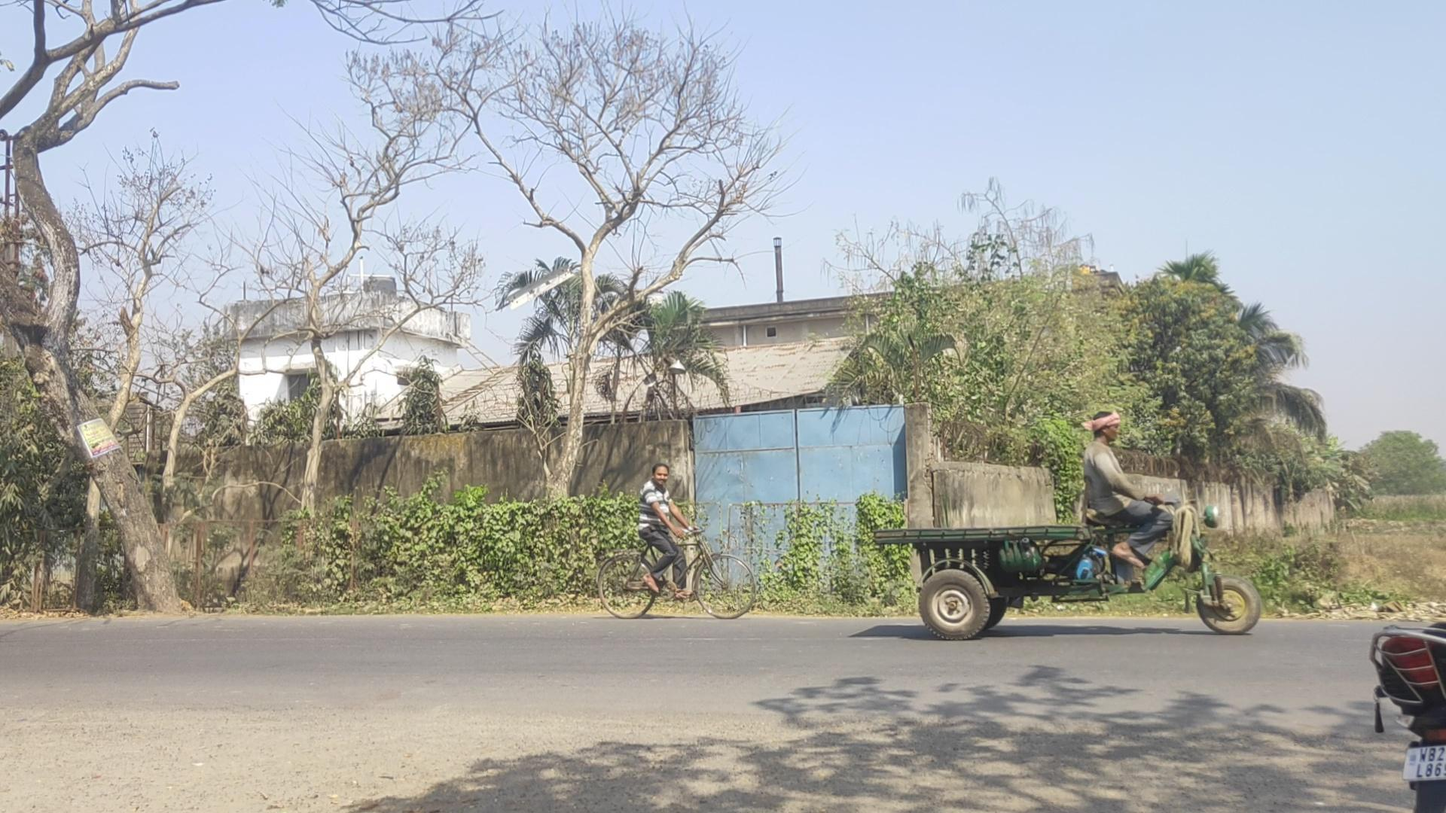bike: (596, 464, 756, 620)
